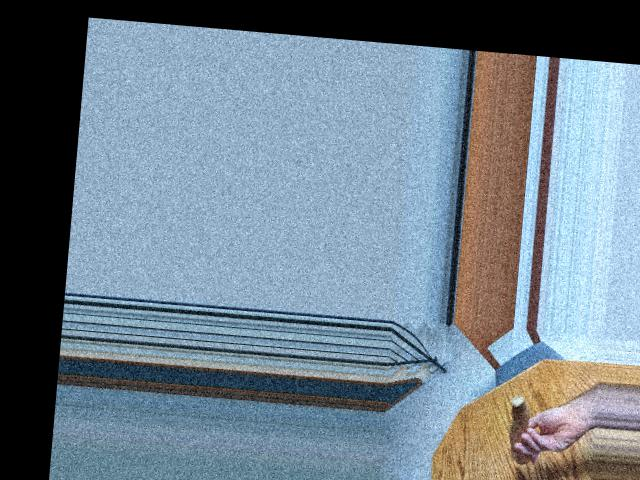sweet_potato: (503, 393, 539, 464)
